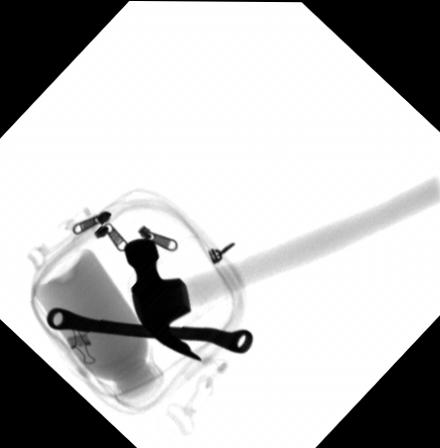Hammer: (123, 173, 440, 361)
Wrench: (44, 306, 255, 352)
